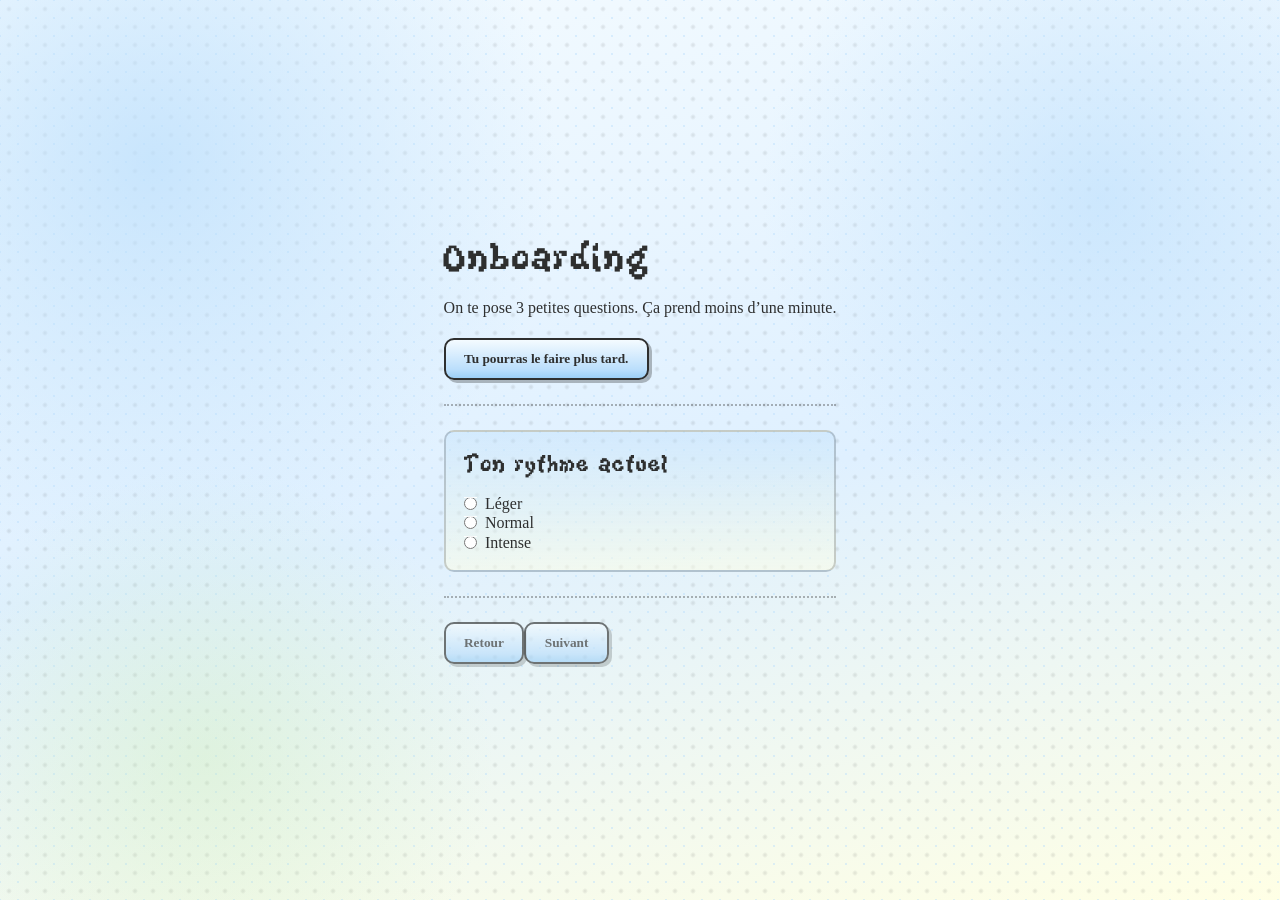
Test: OnboardingPage › keeps next disabled until a choice is made on step 1
Expected: the button "Suivant" is disabled, [524, 622, 609, 664]
Click the radio button labelled "Normal".
click(470, 523)  # box [464, 516, 477, 529]
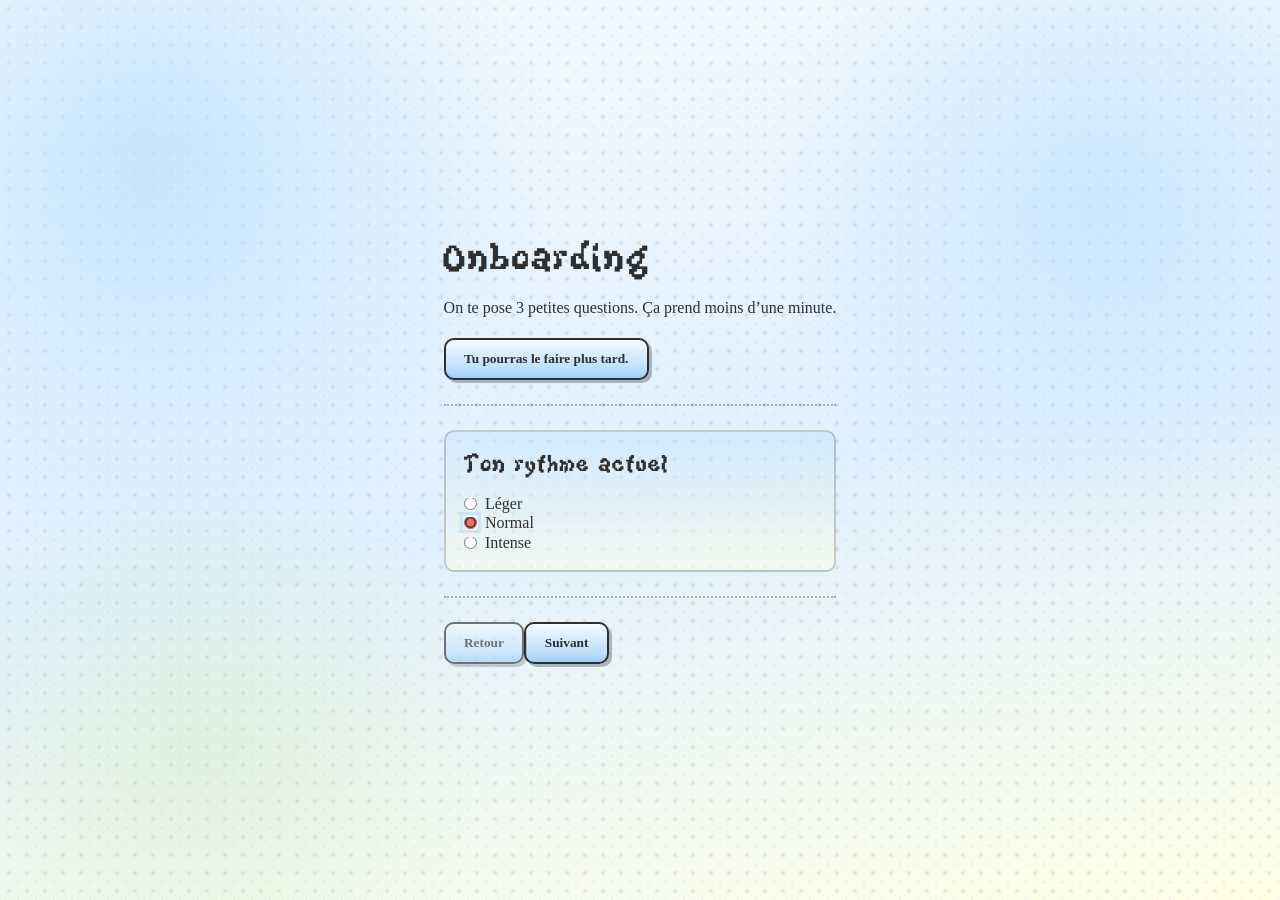
Now the button "Suivant" is enabled, box [524, 622, 609, 664]
